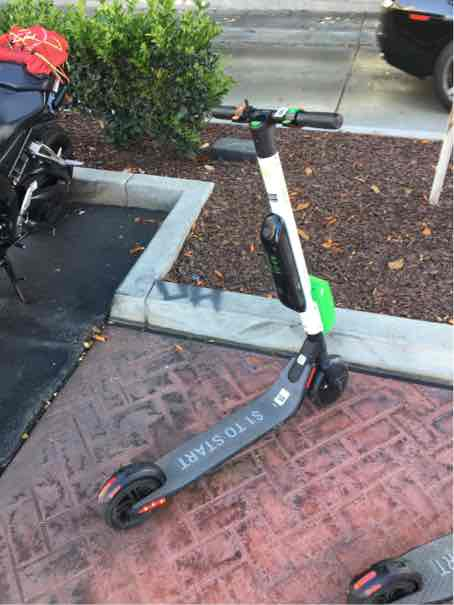scooter: (91, 99, 357, 535)
